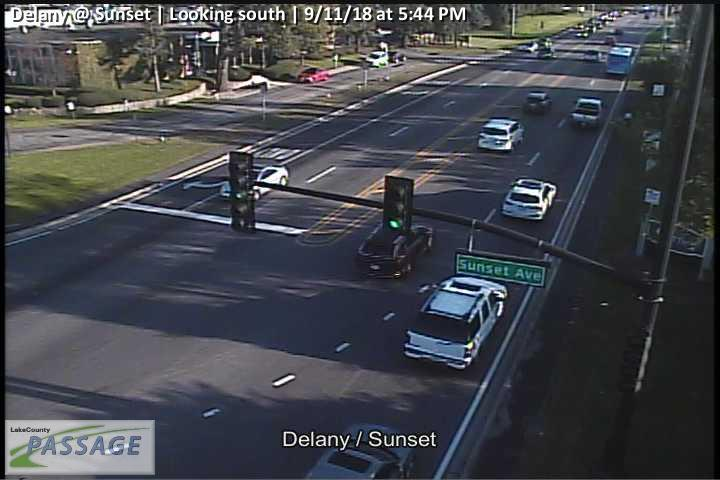SUV: (404, 274, 507, 369), (299, 423, 417, 480), (502, 177, 557, 221), (477, 117, 525, 152), (570, 97, 607, 128), (524, 91, 552, 115), (366, 50, 389, 65)
Sedan: (218, 163, 289, 199), (297, 68, 329, 84)
Truck: (606, 45, 633, 74)
